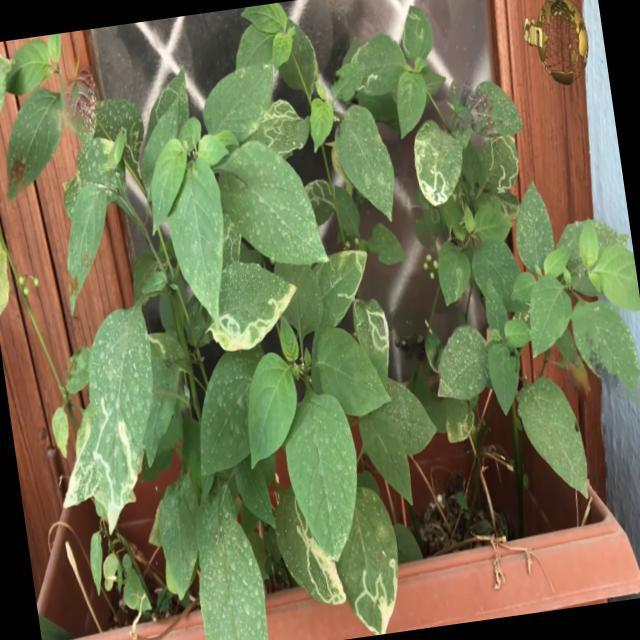Tomato healthy leaf: (237, 348, 306, 468), (595, 240, 640, 315)
Tomato target spot leaf: (75, 302, 176, 538), (324, 483, 409, 640), (198, 252, 304, 356), (268, 478, 348, 613), (408, 114, 470, 210), (309, 246, 376, 329), (91, 94, 150, 188), (51, 417, 102, 510), (350, 294, 397, 391), (347, 30, 410, 100), (272, 14, 322, 100), (249, 95, 315, 160), (138, 65, 194, 139), (472, 132, 524, 200), (434, 236, 475, 308), (397, 3, 436, 63), (442, 394, 478, 448), (303, 176, 338, 228), (218, 220, 246, 266), (148, 329, 170, 366)
